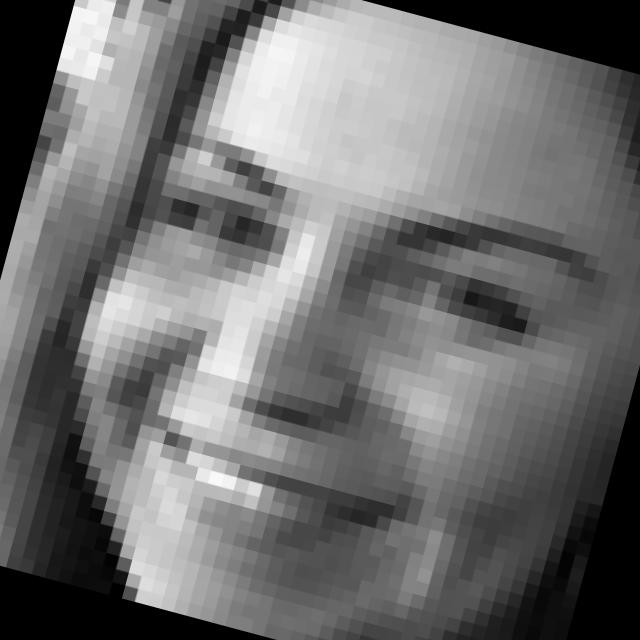happy: (80, 128, 610, 623)
